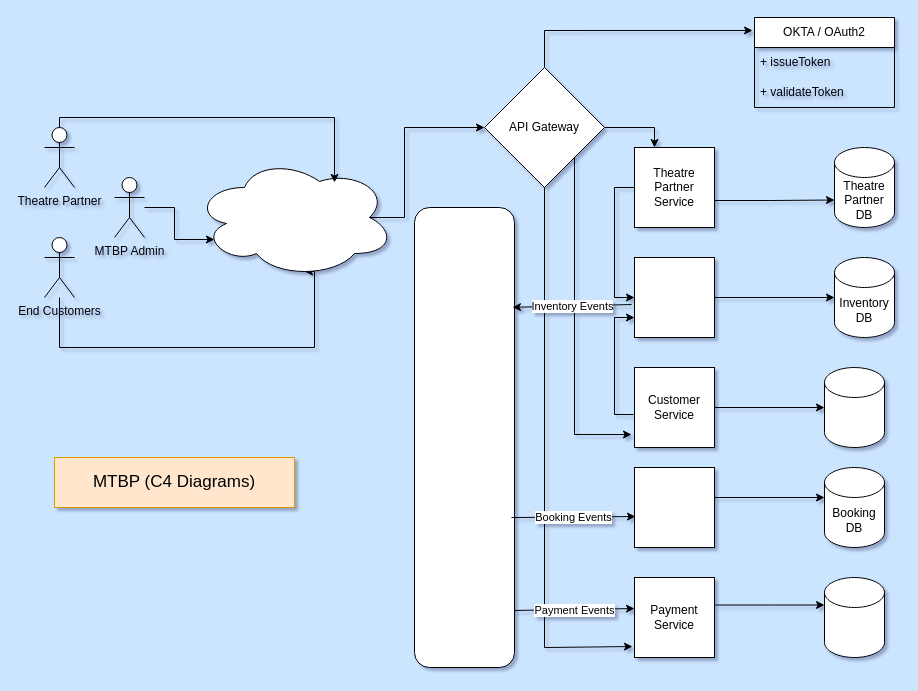
Image size: 918x691. Some labels were removed from this diagram. The shapes that lost their labels are listed below. From the top down, each one's centre as x and y in pixels, then its label:
pixel 294 217: Load Balancer (https://www.mtbp.com)
pixel 674 297: Inventory Management Service
pixel 854 407: Customer DB
pixel 464 437: KAFKA Messaging Broker
pixel 674 507: Booking Service
pixel 854 617: Payment DB
